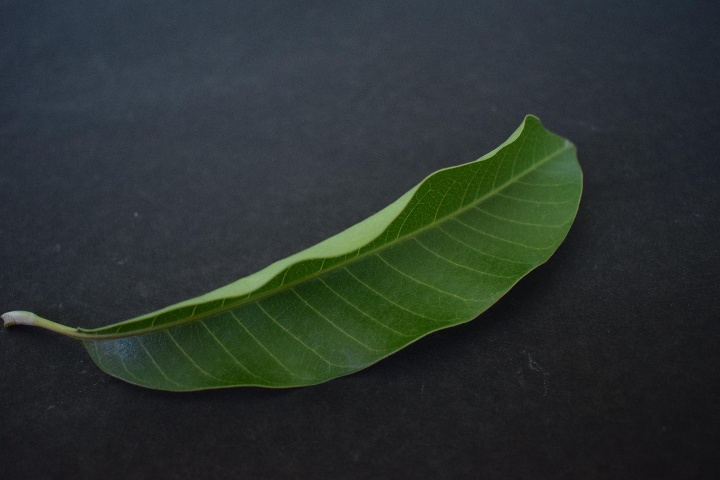healthy: (77, 118, 604, 397)
